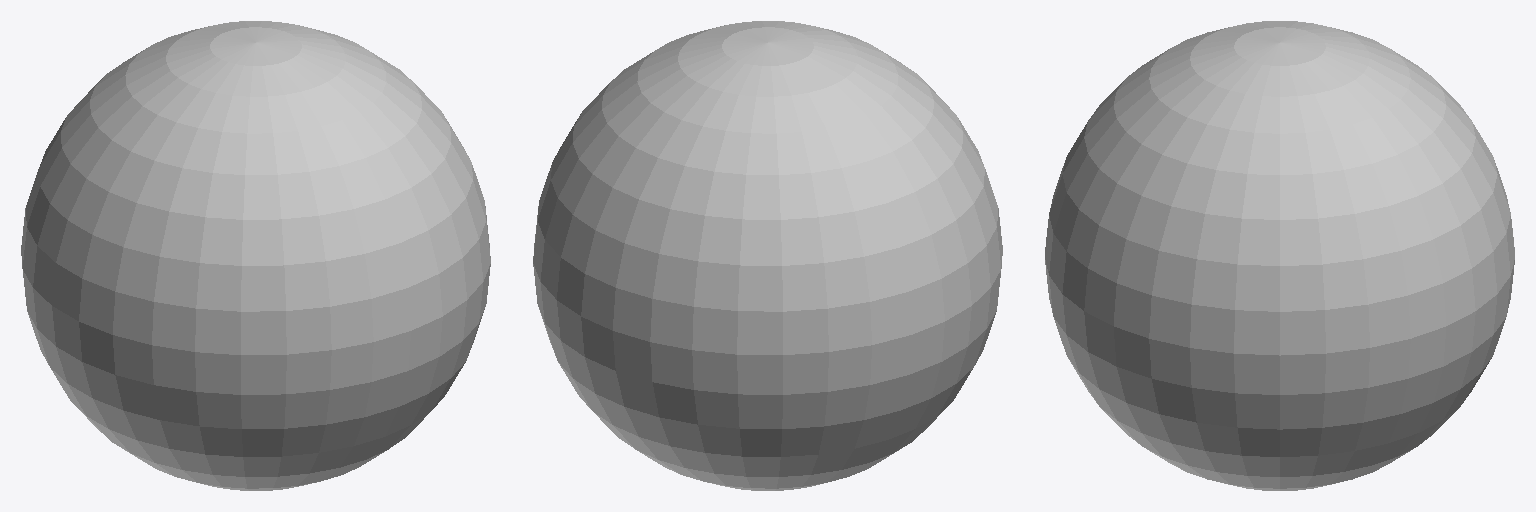
File: ball.obj
3 renders of one model, left to right at view 1: azimuth 30°, elevation 25°; view 2: azimuth 150°, elevation 25°; view 3: azimuth 270°, elevation 25°, orthographic.
Parts seen in each view (by area): view 1: Sphere; view 2: Sphere; view 3: Sphere.
Boxes of the visible parts, x1,y1,x2,y2 form: Sphere: [21, 21, 490, 490]; Sphere: [533, 21, 1002, 490]; Sphere: [1045, 21, 1514, 490].
Size of the model in its own units: 0.3122 by 0.3122 by 0.3122.